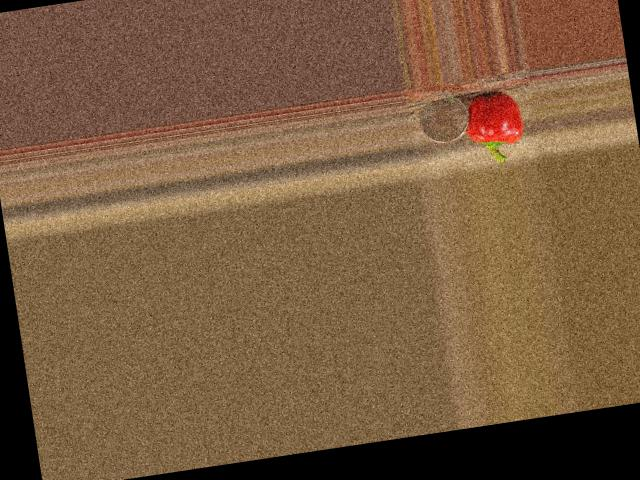bell_pepper: (463, 87, 528, 165)
